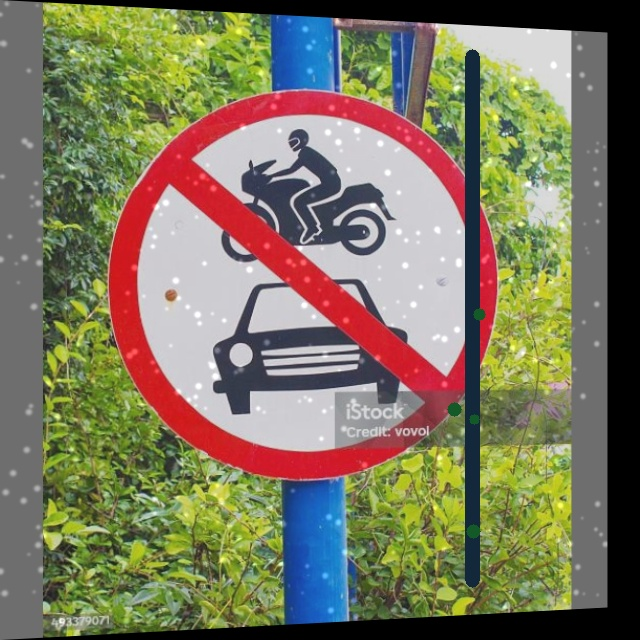All_Motor_Vehicles_Prohibited: (114, 89, 496, 482)
